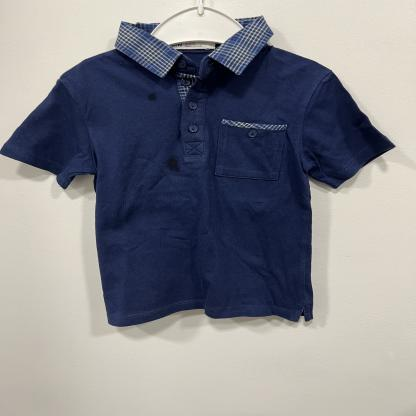stain: (161, 154, 183, 175), (144, 91, 161, 104)
